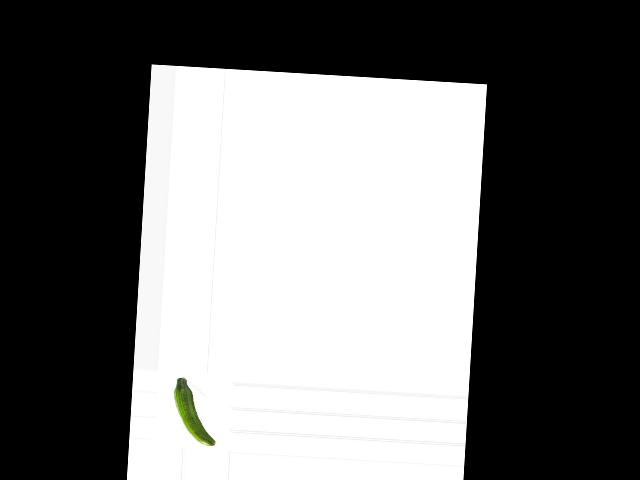cucumber: (171, 376, 219, 446)
